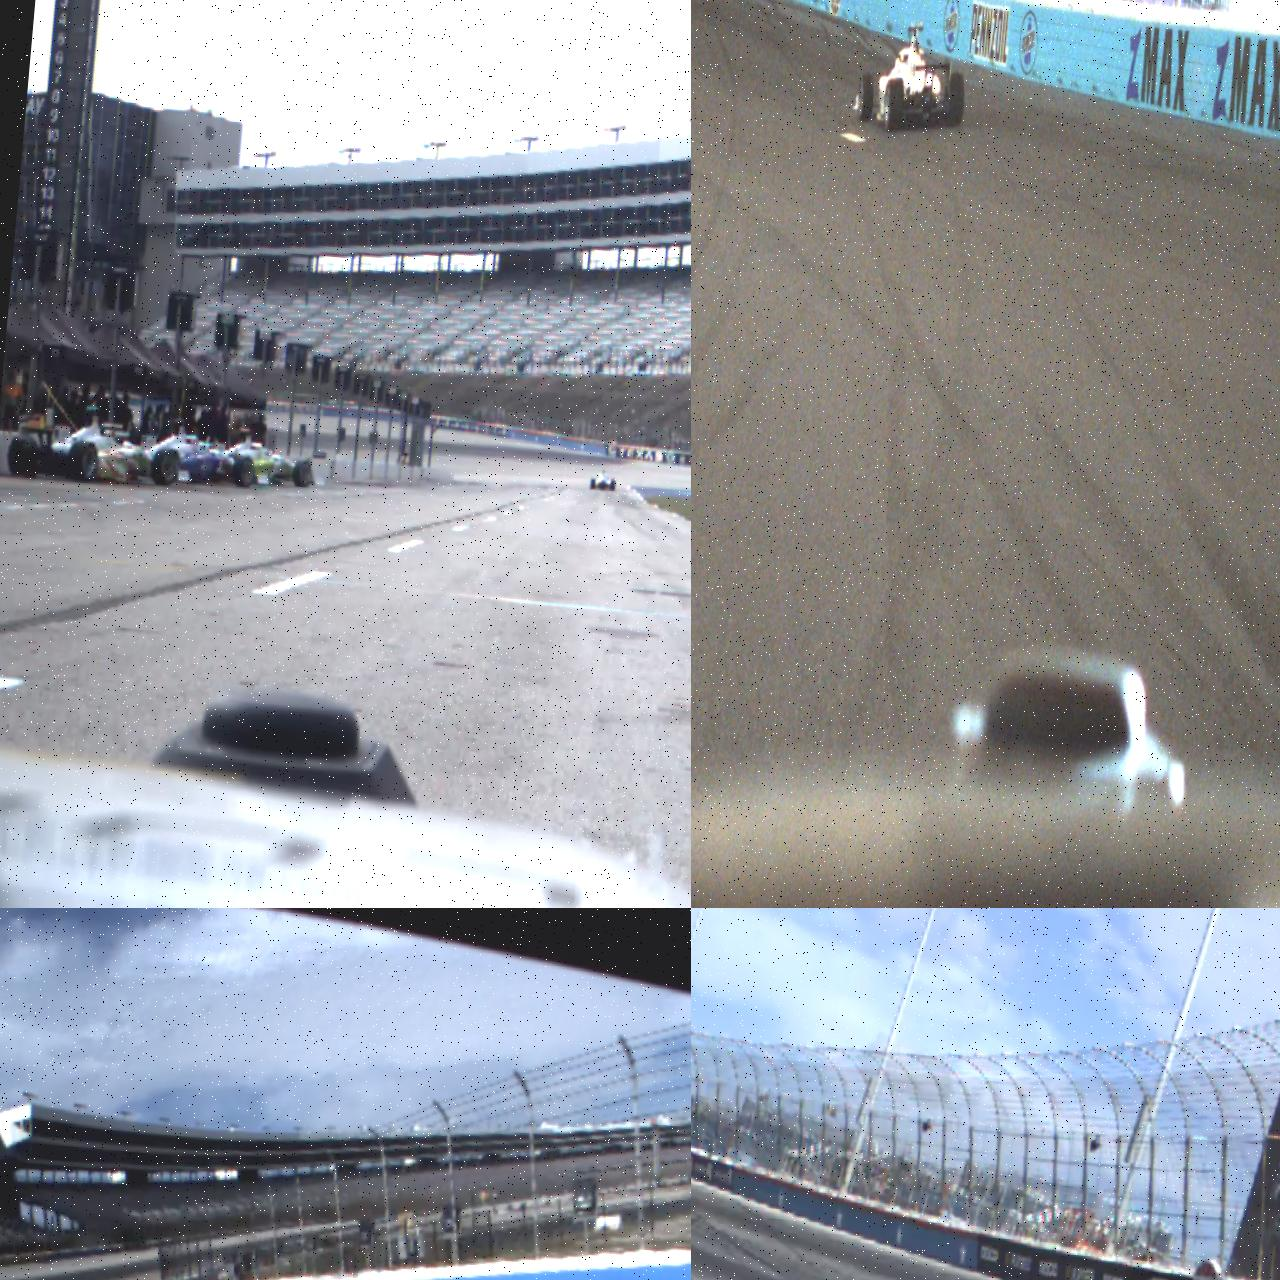AV: (6, 398, 186, 494), (850, 18, 970, 140), (590, 469, 616, 492)
Wheel: (6, 437, 40, 480), (882, 76, 906, 133), (68, 440, 99, 484), (942, 72, 966, 128), (152, 448, 182, 486), (856, 72, 876, 122), (232, 455, 256, 488), (292, 459, 314, 487), (590, 478, 596, 490), (611, 478, 616, 492)
